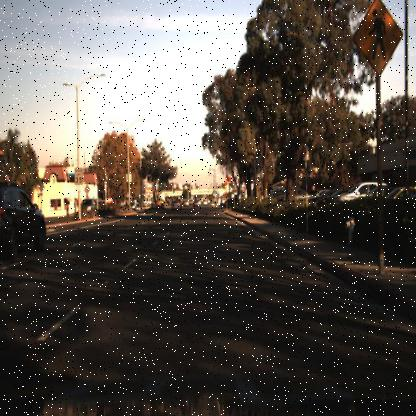car: (0, 178, 47, 268), (334, 180, 372, 205), (76, 194, 100, 218), (287, 186, 314, 205), (170, 199, 181, 215), (171, 198, 182, 214)
